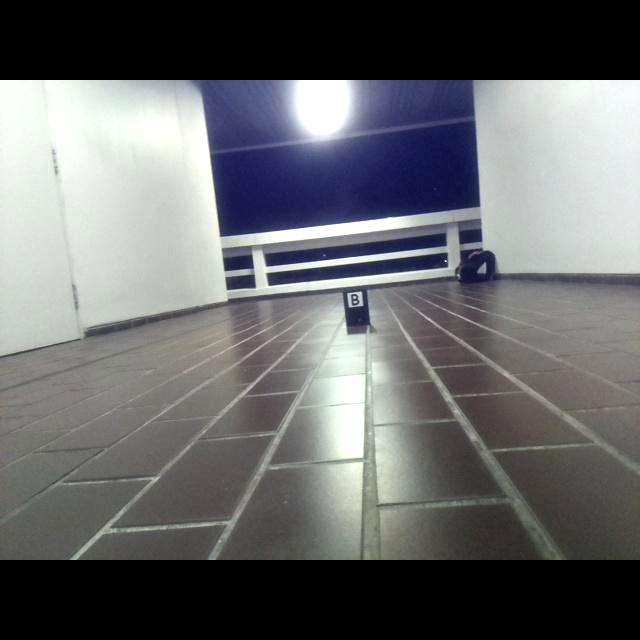B: (349, 293, 360, 306)
